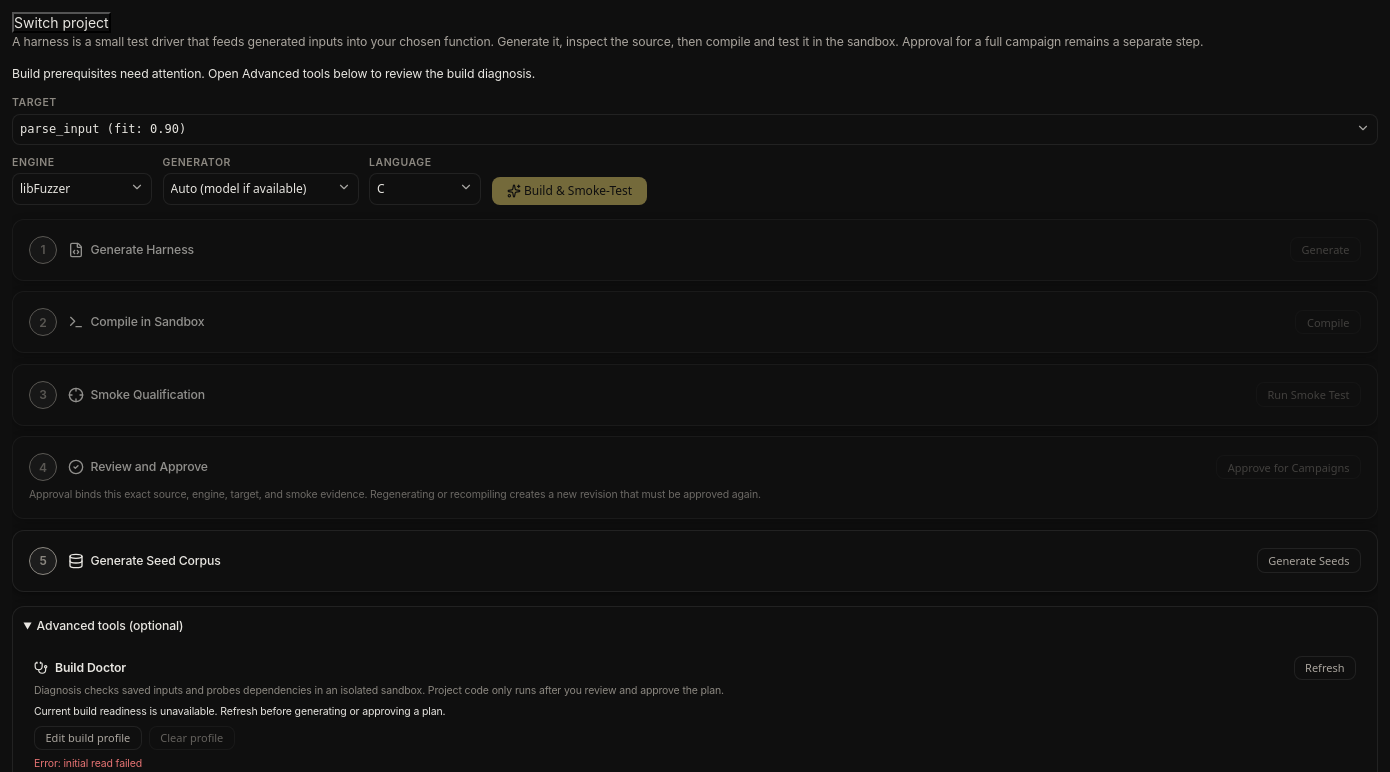
Test: Build Doctor in the real harness workflow › keeps initial unknown profile reads blocked (diagnosis succeeds: false) and retries to proven absence
Expected: the button "Generate" is disabled, [1290, 237, 1361, 262]
Expected: the button "Build & Smoke-Test" is disabled, [492, 176, 647, 204]
Click the button "Refresh" at (1325, 668), box [1294, 656, 1356, 680]
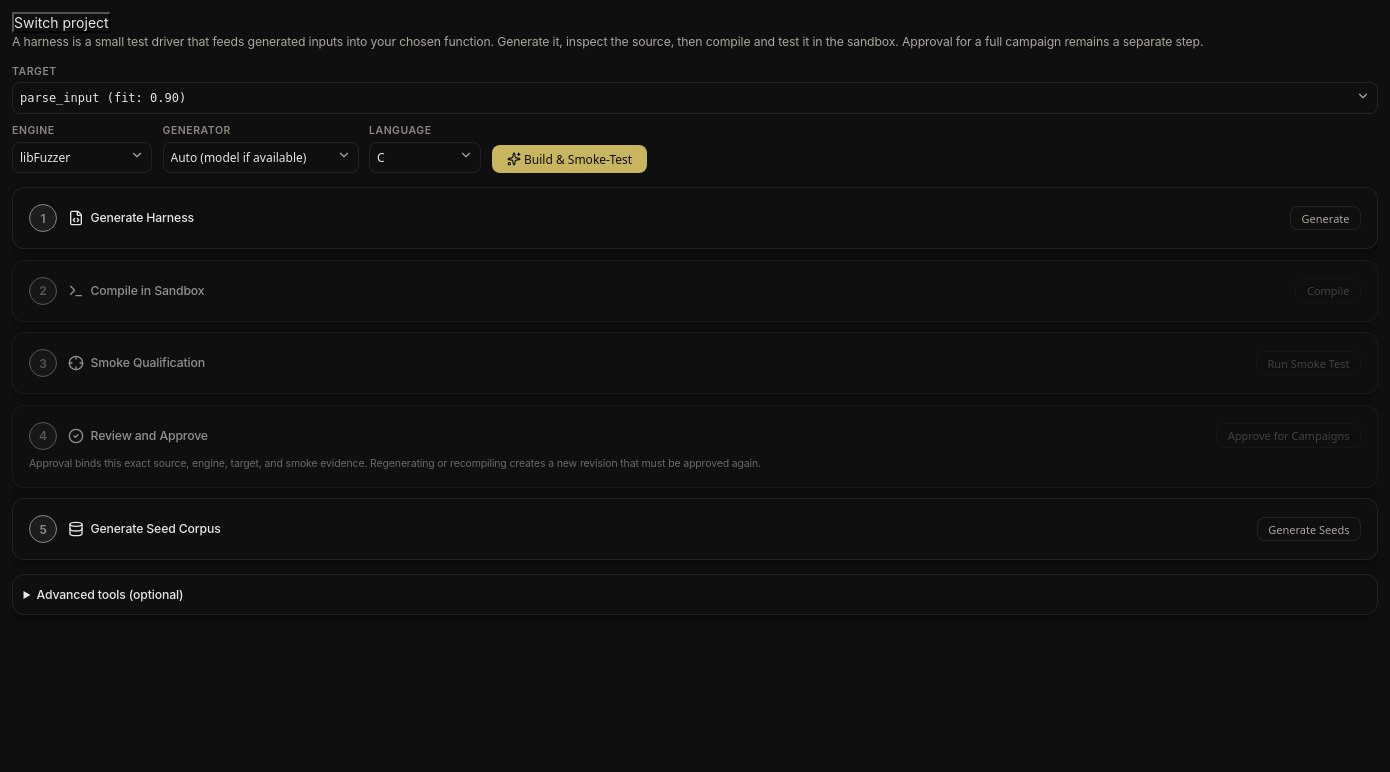
Result: the button "Generate" is enabled at [1290, 206, 1361, 230]
